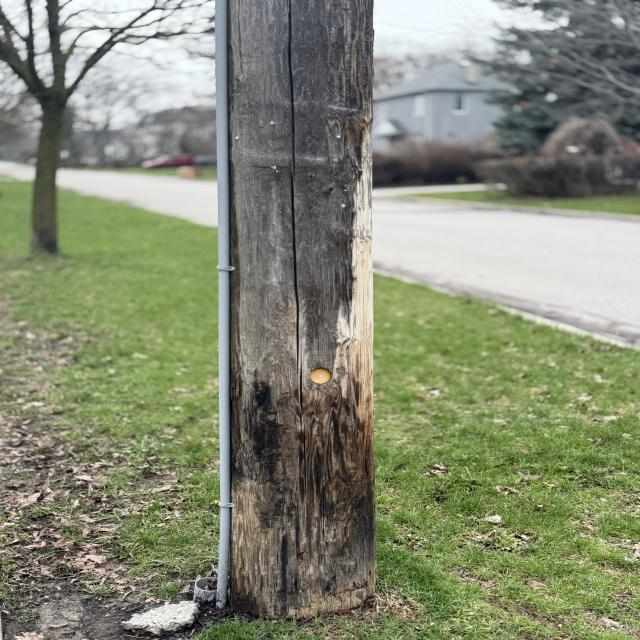Electrical Pole: (205, 2, 384, 618)
